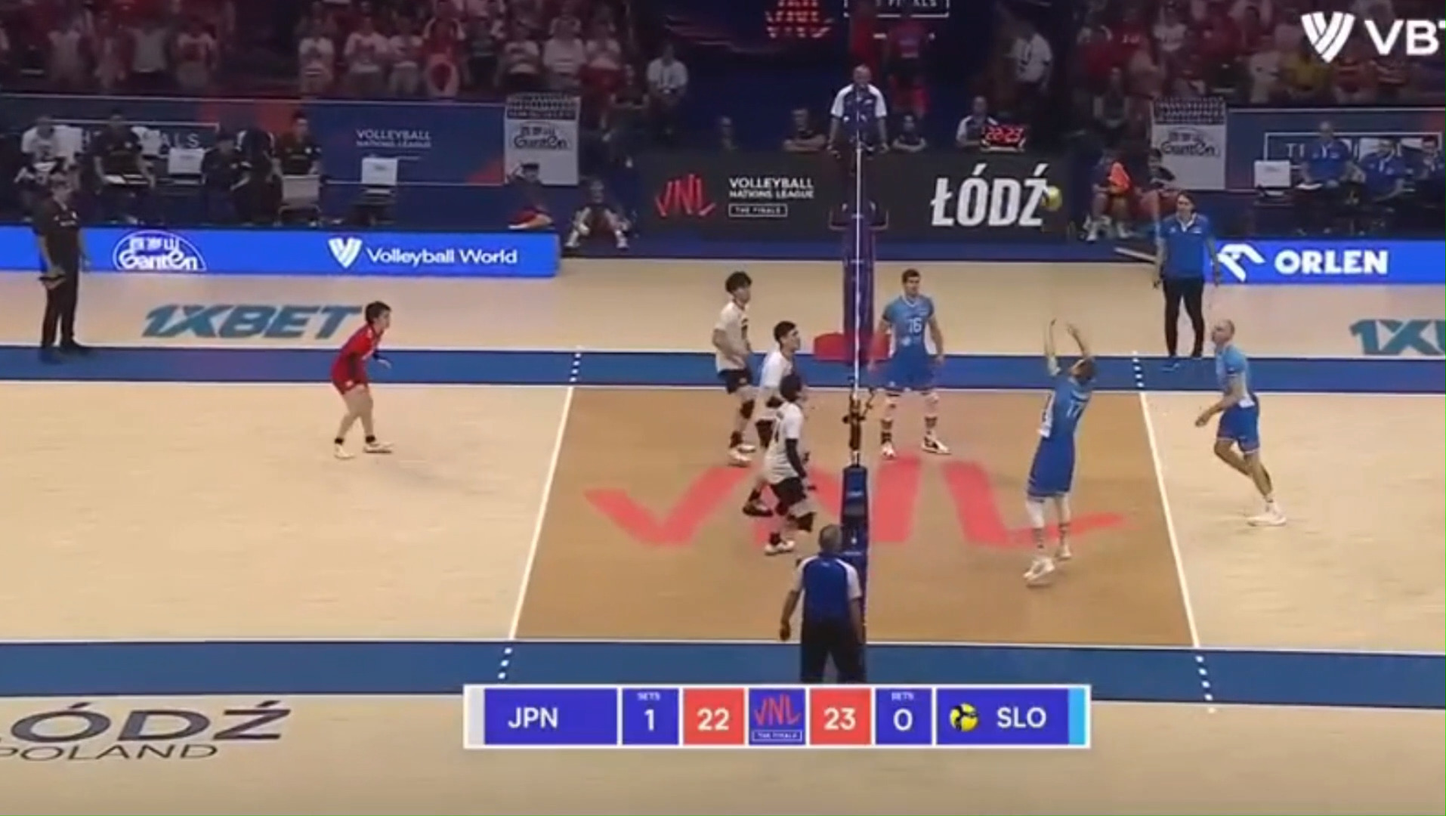ball: (1043, 185, 1063, 211)
player: (1024, 321, 1097, 584), (1195, 320, 1285, 526), (877, 269, 949, 459)
player 1: (742, 321, 800, 517), (760, 371, 814, 554), (331, 301, 391, 458), (712, 271, 757, 465)
referee: (779, 524, 865, 684), (828, 65, 891, 243), (1156, 193, 1219, 360), (32, 175, 88, 360)
